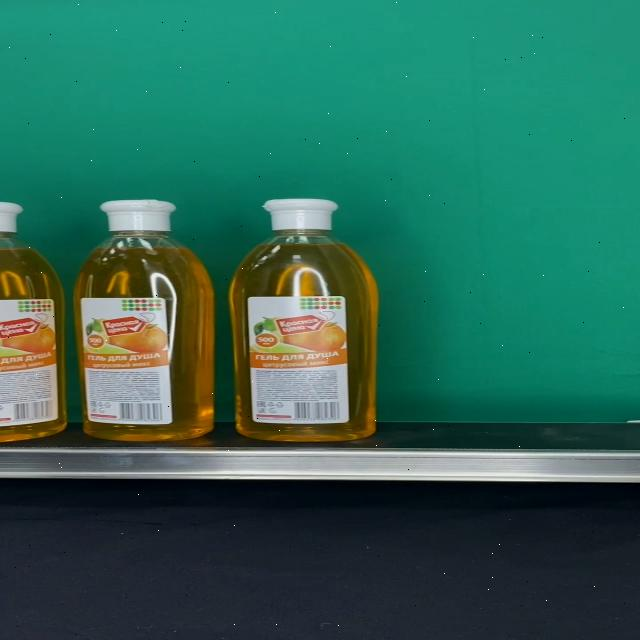Bottle: (228, 199, 379, 442), (74, 199, 215, 442)
Cap: (100, 200, 177, 232), (262, 199, 338, 231)
